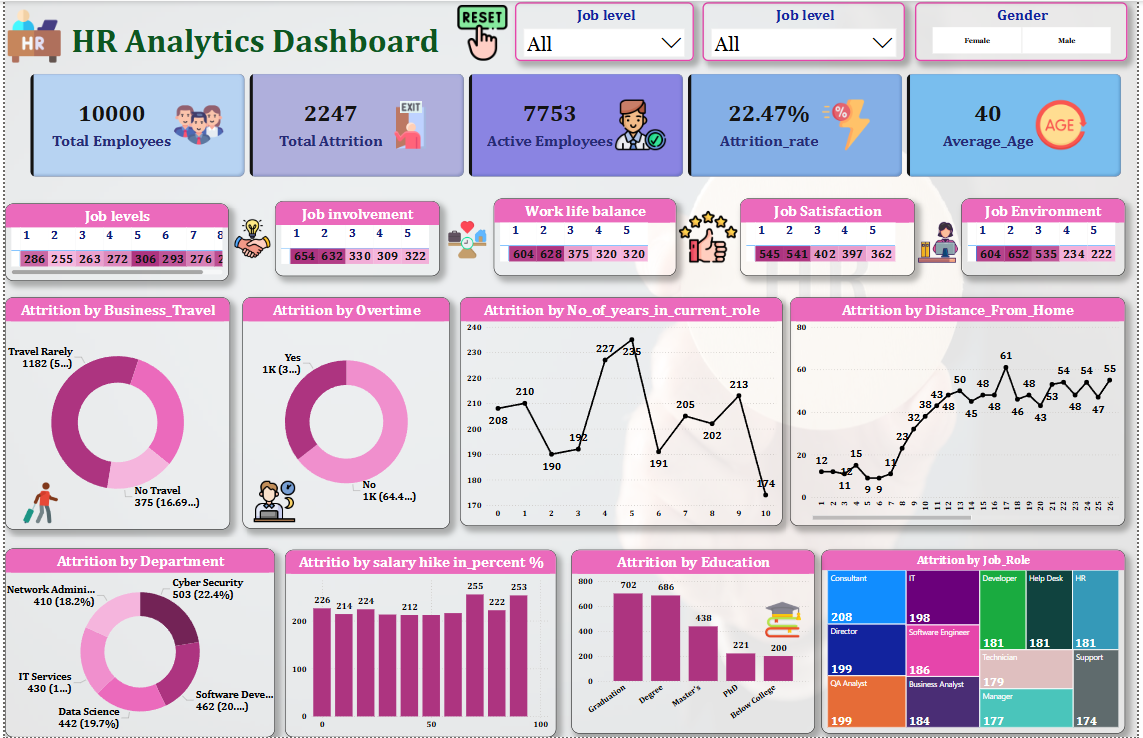

Layout of this report page (visuals, bound fields, positions):
{"tool":"powerbi","page":{"name":"Page 1","canvas":[2000,1300],"ordinal":0},"visuals":[{"type":"cardVisual","fields":{"Data":["CountNonNull(projectdb employeesa.Employee_ID)","projectdb employeesa.Attrition_yes","projectdb employeesa.Attrition_NO","projectdb employeesa.Attrition_rate","projectdb employeesa.Average_Age"]},"box":[39.7,123.6,1938.5,192.1],"z":0},{"type":"donutChart","title":"Attrition by Department","fields":{"Category":["projectdb employeesa.Department"],"Y":["projectdb employeesa.Attrition_yes"]},"box":[0,967.1,476.9,333.4],"z":1000},{"type":"treemap","title":"Attrition  by Job_Role","fields":{"Group":["projectdb employeesa.Job_Role"],"Values":["projectdb employeesa.Attrition_yes"]},"box":[1441.8,969.3,536.5,324.6],"z":2000},{"type":"lineChart","title":"Attrition by Distance_From_Home","fields":{"Category":["projectdb employeesa.Distance_From_Home"],"Y":["projectdb employeesa.Attrition_yes"]},"box":[1386.6,523.3,591.7,404],"z":3000},{"type":"donutChart","title":"Attrition by Overtime","fields":{"Category":["projectdb employeesa.Overtime"],"Y":["projectdb employeesa.Attrition_yes"]},"box":[419.5,523.3,366.5,408.5],"z":4000},{"type":"pivotTable","title":"Job Satisfaction","fields":{"Columns":["projectdb employeesa.Job_Satisfaction"],"Values":["projectdb employeesa.Attrition_yes"]},"box":[1298.2,348.8,309.1,136.9],"z":5000},{"type":"pivotTable","title":"Job Environment ","fields":{"Values":["projectdb employeesa.Attrition_yes"],"Columns":["projectdb employeesa.Environemnt_Satisfaction"]},"box":[1689,348.8,289.2,136.9],"z":6000},{"type":"pivotTable","title":"Work life balance","fields":{"Values":["projectdb employeesa.Attrition_yes"],"Columns":["projectdb employeesa.Work_life_balance"]},"box":[863.3,348.8,322.4,136.9],"z":7000},{"type":"donutChart","title":"Attrition by Business_Travel","fields":{"Category":["projectdb employeesa.Business_Travel"],"Y":["projectdb employeesa.Attrition_yes"]},"box":[0,523.3,397.4,410.7],"z":8000},{"type":"lineChart","title":"Attrition by No_of_years_in_current_role","fields":{"Category":["projectdb employeesa.No_of_years_in_current_role"],"Y":["projectdb employeesa.Attrition_yes"]},"box":[803.7,523.3,569.6,404],"z":9000},{"type":"columnChart","title":"Attritio by salary hike in_percent %","fields":{"Y":["projectdb employeesa.Attrition_yes"],"Category":["projectdb employeesa.Salary_Hike_in_percent (bins)"]},"box":[494.6,969.3,479.1,331.2],"z":10000},{"type":"columnChart","title":"Attrition by Education","fields":{"Y":["projectdb employeesa.Attrition_yes"],"Category":["projectdb employeesa.Education"]},"box":[1000.2,969.3,430.5,324.6],"z":11000},{"type":"pivotTable","title":"Job involvement","fields":{"Values":["projectdb employeesa.Attrition_yes"],"Columns":["projectdb employeesa.Job_Involvement"]},"box":[476.9,353.3,291.4,132.5],"z":12000},{"type":"pivotTable","title":"Job levels","fields":{"Values":["projectdb employeesa.Attrition_yes"],"Columns":["projectdb employeesa.Job_Level"]},"box":[0,357.7,395.2,136.9],"z":13000},{"type":"textbox","box":[112.6,28.7,673.4,94.9],"z":14000},{"type":"image","box":[0,0,103.8,123.6],"z":15000},{"type":"image","box":[1185.6,359.9,112.6,112.6],"z":16000},{"type":"image","box":[1607.3,379.8,81.7,92.7],"z":17000},{"type":"image","box":[770.6,379.8,92.7,83.9],"z":18000},{"type":"image","box":[397.4,375.3,79.5,88.3],"z":19000},{"type":"image","box":[22.1,845.6,81.7,81.7],"z":20000},{"type":"image","box":[428.3,841.2,94.9,86.1],"z":21000},{"type":"image","box":[1338,1053.2,72.9,79.5],"z":22000},{"type":"slicer","title":"Gender","fields":{"Values":["projectdb employeesa.Gender"]},"box":[1607.3,2.2,375.3,103.8],"z":23000},{"type":"slicer","title":"Job level","fields":{"Values":["projectdb employeesa.Job_Level"]},"box":[1232,2.2,357.7,103.8],"z":24000},{"type":"slicer","title":"Job level","fields":{"Values":["projectdb employeesa.Job_Role"]},"box":[900.8,2.2,315.7,103.8],"z":25000},{"type":"image","box":[786,2.2,114.8,108.2],"z":26000}]}

Visuals, with their boxes in screenshot pixels (x1, y1, x2, y2), scaled from the page's 2000x1300 canvas onto the 1143x738 screenshot:
cardVisual - CountNonNull(projectdb employeesa.Employee_ID) x projectdb employeesa.Attrition_yes: locate(23, 70, 1131, 179)
"Attrition by Department" donutChart: locate(0, 549, 273, 737)
"Attrition  by Job_Role" treemap: locate(824, 550, 1131, 735)
"Attrition by Distance_From_Home" lineChart: locate(792, 297, 1131, 526)
"Attrition by Overtime" donutChart: locate(240, 297, 449, 529)
"Job Satisfaction" pivotTable: locate(742, 198, 919, 276)
"Job Environment " pivotTable: locate(965, 198, 1131, 276)
"Work life balance" pivotTable: locate(493, 198, 678, 276)
"Attrition by Business_Travel" donutChart: locate(0, 297, 227, 530)
"Attrition by No_of_years_in_current_role" lineChart: locate(459, 297, 785, 526)
"Attritio by salary hike in_percent %" columnChart: locate(283, 550, 556, 737)
"Attrition by Education" columnChart: locate(572, 550, 818, 735)
"Job involvement" pivotTable: locate(273, 201, 439, 276)
"Job levels" pivotTable: locate(0, 203, 226, 281)
textbox: locate(64, 16, 449, 70)
image: locate(0, 0, 59, 70)
image: locate(678, 204, 742, 268)
image: locate(919, 216, 965, 268)
image: locate(440, 216, 493, 263)
image: locate(227, 213, 273, 263)
image: locate(13, 480, 59, 526)
image: locate(245, 478, 299, 526)
image: locate(765, 598, 806, 643)
"Gender" slicer: locate(919, 1, 1133, 60)
"Job level" slicer: locate(704, 1, 909, 60)
"Job level" slicer: locate(515, 1, 695, 60)
image: locate(449, 1, 515, 63)
